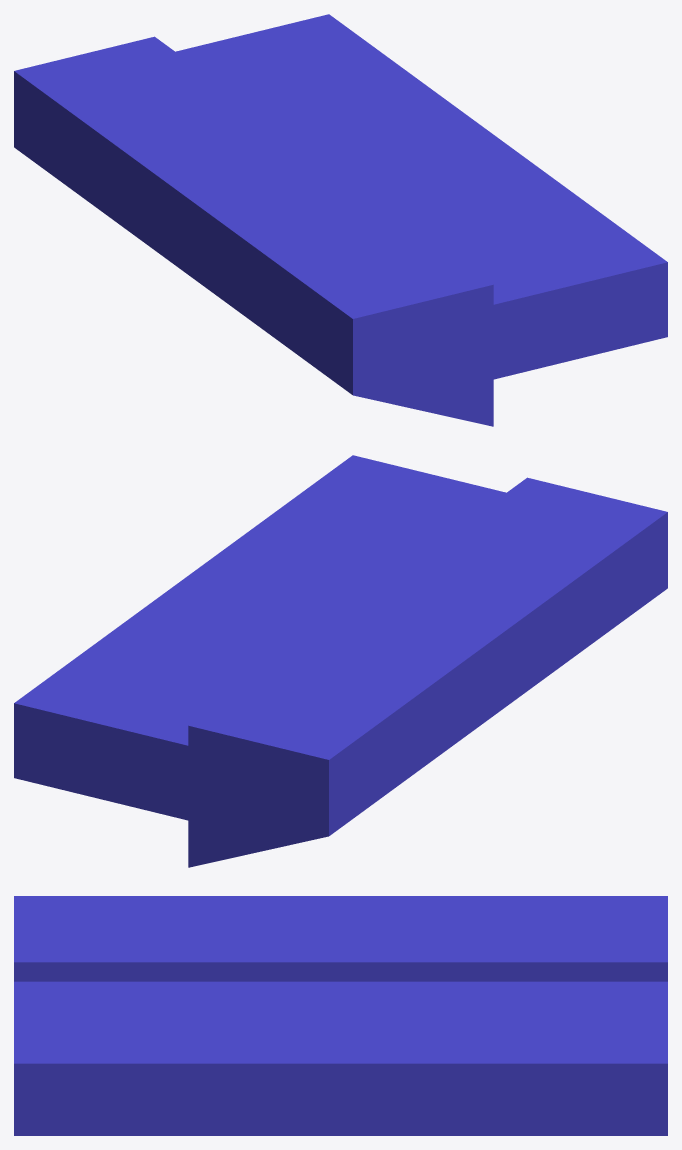
File: SM_LampeNeon.fbx
The picture shows the model from 3 angles, top to bottom: view 1: azimuth 30°, elevation 25°; view 2: azimuth 150°, elevation 25°; view 3: azimuth 270°, elevation 25°; orthographic projection. The views are drawn at different scales.
Parts seen in each view (by area): view 1: SM_LampeNeon; view 2: SM_LampeNeon; view 3: SM_LampeNeon.
Boxes of the visible parts, box(x1,y1,x2,y2) form: SM_LampeNeon: box(14, 14, 667, 426); SM_LampeNeon: box(14, 455, 667, 867); SM_LampeNeon: box(14, 896, 667, 1135).
Bounding box in the file's own units: 73.89 × 31.85 × 138.
